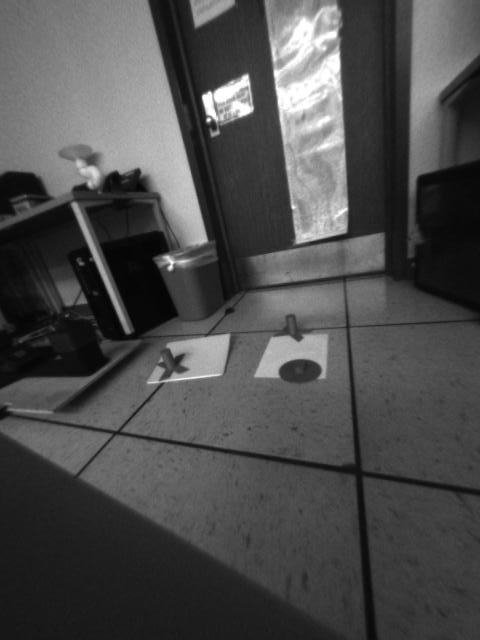X: (266, 313, 315, 340), (151, 348, 190, 377)
